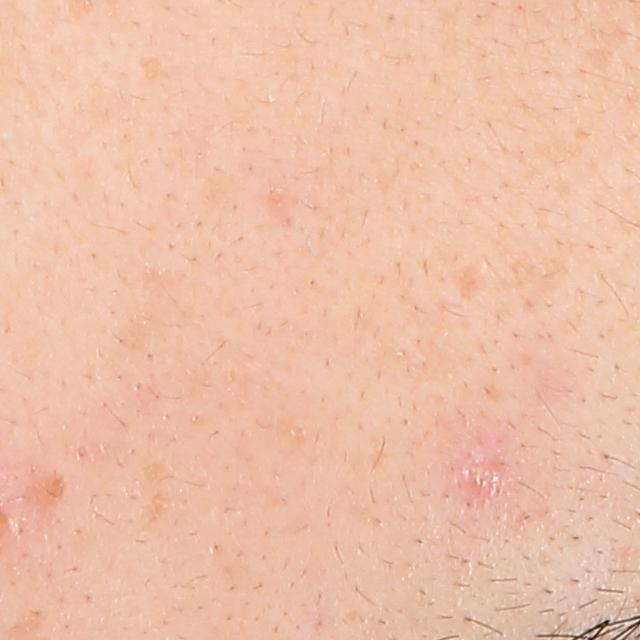atrophic_scar: (587, 12, 634, 70), (450, 261, 487, 305)
